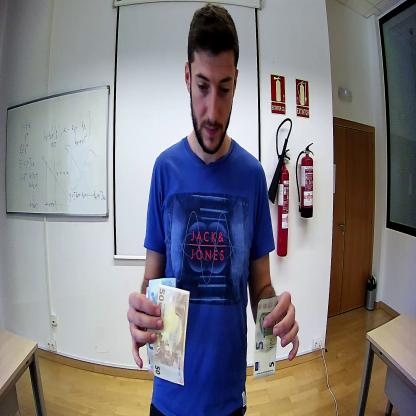billete: (153, 283, 190, 386), (144, 277, 176, 373), (253, 295, 278, 380)
